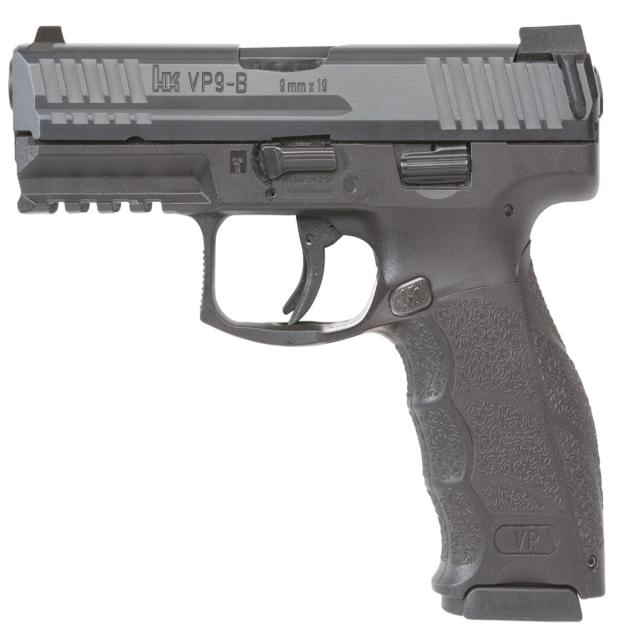HandGun: (8, 24, 608, 625)
